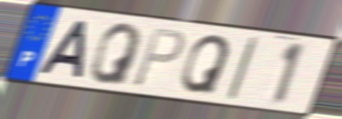1: (272, 40, 307, 106)
A: (36, 18, 91, 81)
I: (223, 35, 261, 103)
P: (129, 27, 188, 90)
Q: (88, 22, 144, 88), (179, 33, 234, 96)
